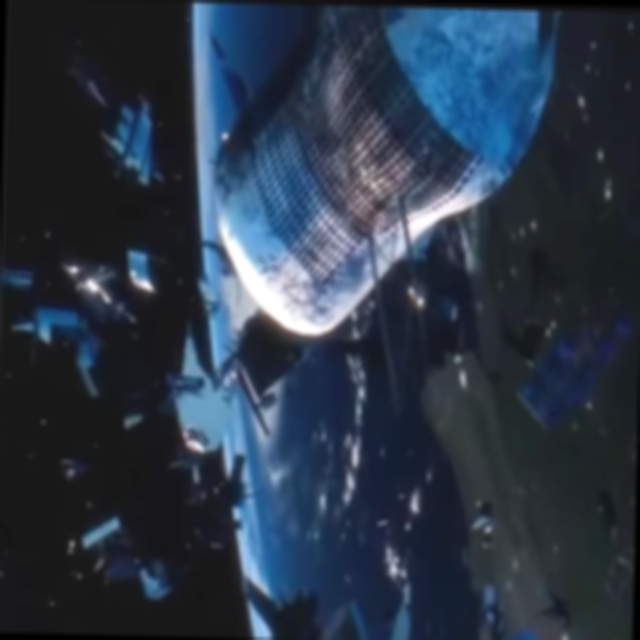large_debris: (189, 0, 575, 374), (0, 244, 164, 410), (49, 452, 187, 614), (83, 71, 179, 215), (156, 326, 237, 478)
